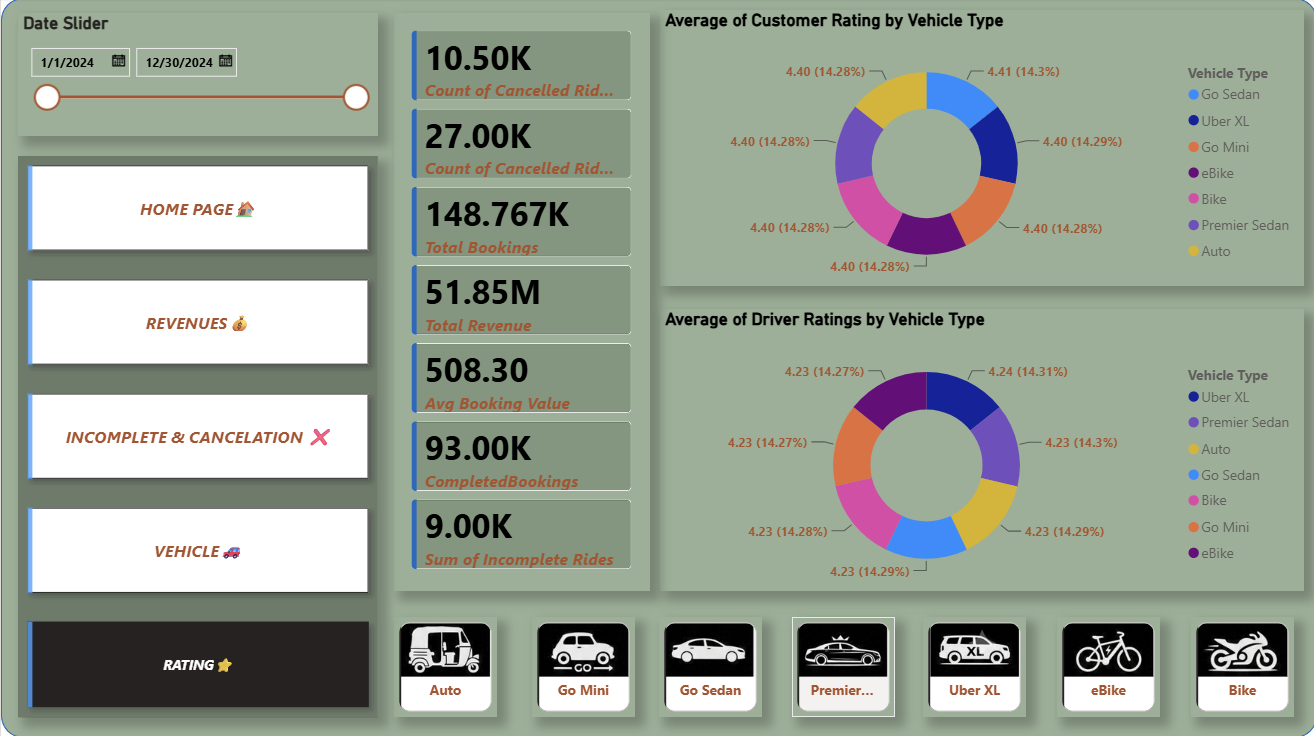

What the dashboard file says about the page in this screenshot:
{"tool":"powerbi","page":{"name":"RATING⭐","canvas":[1280,720],"ordinal":4},"visuals":[{"type":"shape","box":[0,0,1280,719.8],"z":0},{"type":"slicer","title":"Date Slider","fields":{"Values":["ncr_ride_bookings.Date"]},"box":[16.5,14.6,350.2,119.6],"z":1000},{"type":"pageNavigator","title":"REVENUE","box":[16.5,153.7,350.2,545.7],"z":2000},{"type":"donutChart","fields":{"Category":["ncr_ride_bookings.Vehicle Type"],"Y":["Avg(ncr_ride_bookings.Customer Rating)"]},"box":[641,11.7,626.4,268.4],"z":3000},{"type":"donutChart","fields":{"Category":["ncr_ride_bookings.Vehicle Type"],"Y":["Avg(ncr_ride_bookings.Driver Ratings)"]},"box":[641,302.5,626.4,274.3],"z":4000},{"type":"cardVisual","fields":{"Data":["CountNonNull(ncr_ride_bookings.Cancelled Rides by Customer)","CountNonNull(ncr_ride_bookings.Cancelled Rides by Driver)","Count(ncr_ride_bookings.Booking ID)","Sum(ncr_ride_bookings.Booking Value)","Avg(ncr_ride_bookings.Booking Value)","ncr_ride_bookings.CompletedBookings","Sum(ncr_ride_bookings.Incomplete Rides)"]},"box":[382.2,14.6,249,562.2],"z":5000},{"type":"advancedSlicerVisual","fields":{"Values":["ncr_ride_bookings.Vehicle Type"]},"box":[382.2,602.1,100.2,97.3],"z":6000},{"type":"advancedSlicerVisual","fields":{"Values":["ncr_ride_bookings.Vehicle Type"]},"box":[516.5,602.1,100.2,97.3],"z":7000},{"type":"advancedSlicerVisual","fields":{"Values":["ncr_ride_bookings.Vehicle Type"]},"box":[640,602.1,100.2,97.3],"z":8000},{"type":"advancedSlicerVisual","fields":{"Values":["ncr_ride_bookings.Vehicle Type"]},"box":[769.4,602.1,100.2,97.3],"z":9000},{"type":"advancedSlicerVisual","fields":{"Values":["ncr_ride_bookings.Vehicle Type"]},"box":[896.8,602.1,100.2,97.3],"z":10000},{"type":"advancedSlicerVisual","fields":{"Values":["ncr_ride_bookings.Vehicle Type"]},"box":[1027.1,602.1,100.2,97.3],"z":11000},{"type":"advancedSlicerVisual","fields":{"Values":["ncr_ride_bookings.Vehicle Type"]},"box":[1157.4,602.1,100.2,97.3],"z":12000}]}

Visuals, with their boxes in screenshot pixels (x1, y1, x2, y2), scaled from the page's 1280x720 canvas onto the 1314x736 screenshot:
shape: 0 0 1313 735
"Date Slider" slicer: 17 15 376 137
"REVENUE" pageNavigator: 17 157 376 715
donutChart - ncr_ride_bookings.Vehicle Type x Avg(ncr_ride_bookings.Customer Rating): 658 12 1301 286
donutChart - ncr_ride_bookings.Vehicle Type x Avg(ncr_ride_bookings.Driver Ratings): 658 309 1301 590
cardVisual - CountNonNull(ncr_ride_bookings.Cancelled Rides by Customer) x CountNonNull(ncr_ride_bookings.Cancelled Rides by Driver): 392 15 648 590
advancedSlicerVisual - ncr_ride_bookings.Vehicle Type: 392 615 495 715
advancedSlicerVisual - ncr_ride_bookings.Vehicle Type: 530 615 633 715
advancedSlicerVisual - ncr_ride_bookings.Vehicle Type: 657 615 760 715
advancedSlicerVisual - ncr_ride_bookings.Vehicle Type: 790 615 893 715
advancedSlicerVisual - ncr_ride_bookings.Vehicle Type: 921 615 1023 715
advancedSlicerVisual - ncr_ride_bookings.Vehicle Type: 1054 615 1157 715
advancedSlicerVisual - ncr_ride_bookings.Vehicle Type: 1188 615 1291 715
